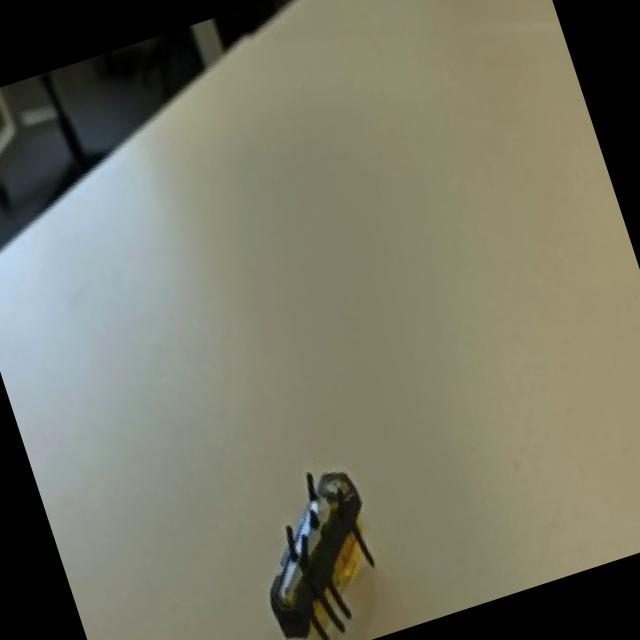6_NanoBug_GrisOscuro: (190, 426, 438, 640)
